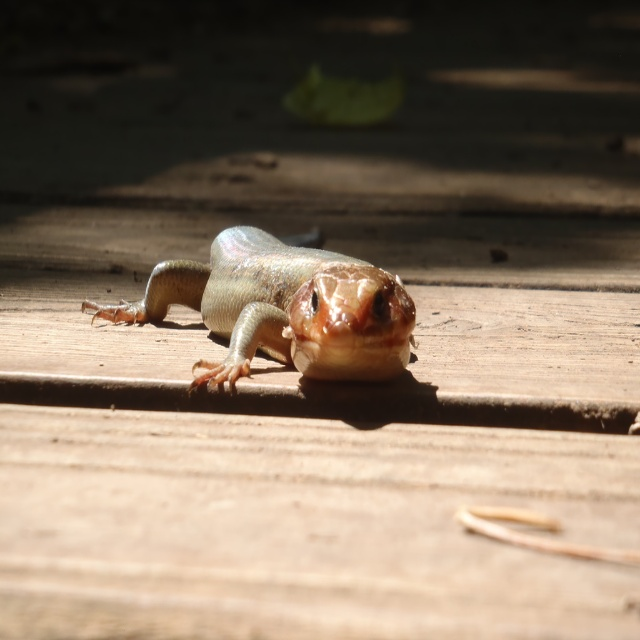Lizard: (95, 225, 435, 410)
